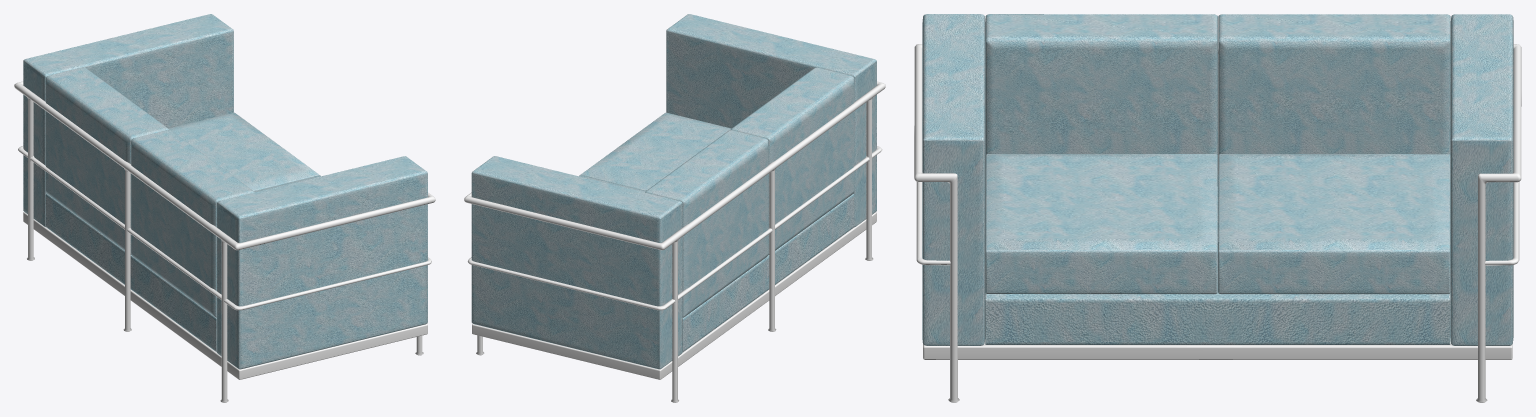
The model's file is Sofa_2_Seater.fbx.
3 renders of one model, left to right at view 1: azimuth 30°, elevation 25°; view 2: azimuth 150°, elevation 25°; view 3: azimuth 270°, elevation 25°, orthographic. The views are drawn at different scales.
Visible parts, largest first — view 1: Sofa_2_Seater; view 2: Sofa_2_Seater; view 3: Sofa_2_Seater.
Part boxes in pixels (left/top/right/bottom): Sofa_2_Seater: left=14, top=14, right=435, bottom=402; Sofa_2_Seater: left=464, top=14, right=885, bottom=402; Sofa_2_Seater: left=914, top=14, right=1521, bottom=402.
Bounding box in the file's own units: 0.713 × 0.6474 × 1.36.
